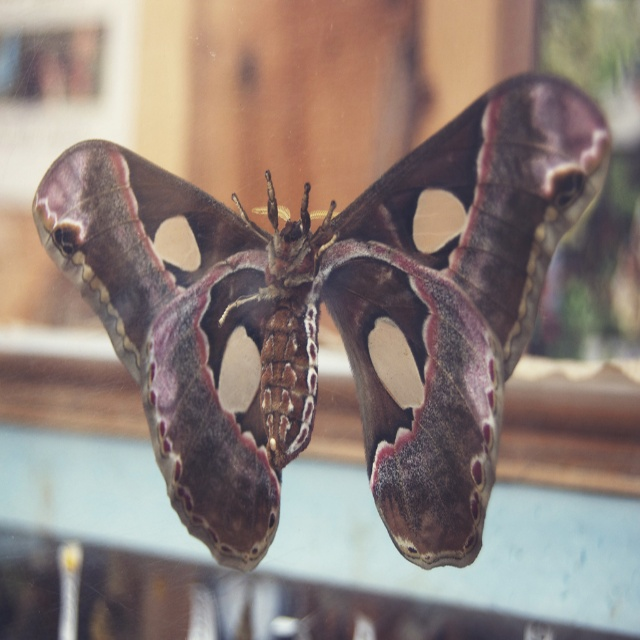Butterfly: (40, 87, 587, 597)
